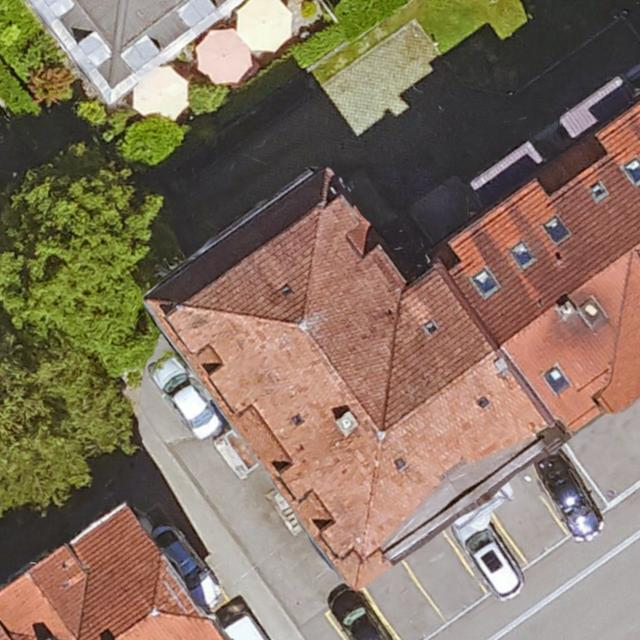tree: (1, 153, 172, 359), (0, 341, 131, 504), (119, 116, 188, 171), (184, 81, 229, 117)
